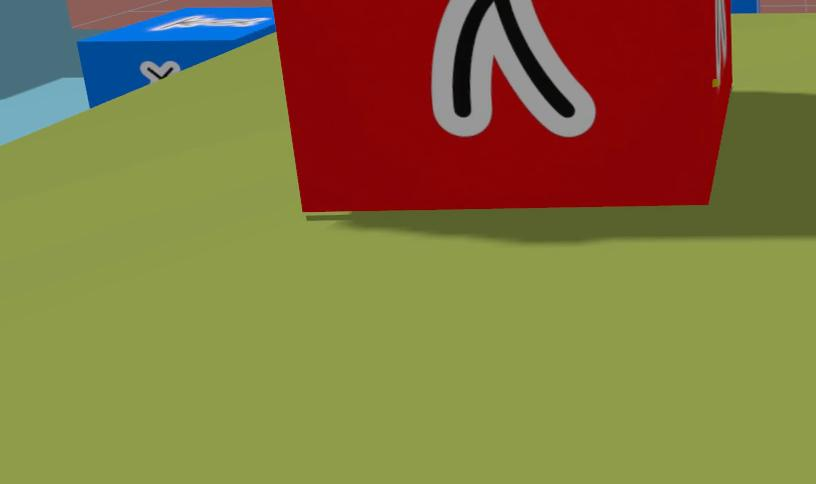KFS_FAKE: (273, 0, 732, 212), (432, 0, 594, 136)
KFS_REAL: (78, 7, 274, 106)
